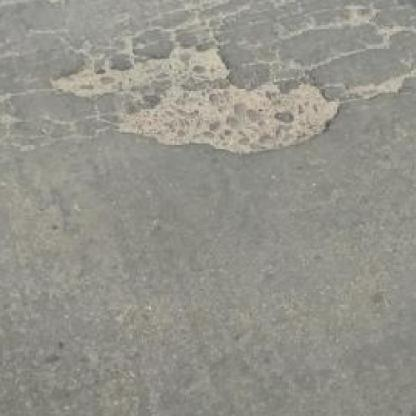pothole: (44, 40, 343, 156)
